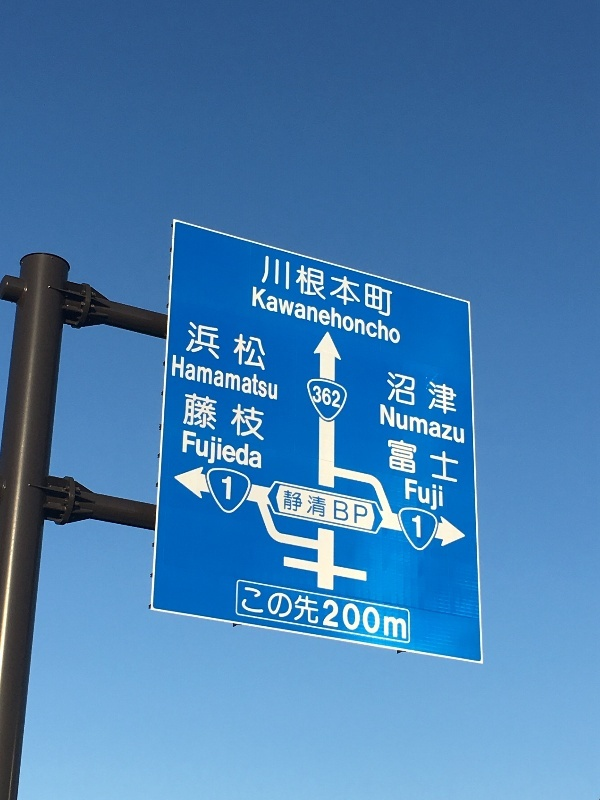text: (273, 255, 288, 319), (289, 255, 304, 319), (305, 255, 320, 319), (321, 255, 336, 319), (337, 255, 352, 319), (353, 255, 368, 319), (369, 255, 384, 319), (257, 286, 272, 345), (273, 286, 288, 345), (289, 286, 304, 345), (305, 286, 320, 345), (321, 286, 336, 345), (337, 286, 352, 345), (353, 286, 368, 345), (369, 286, 384, 345), (385, 286, 400, 345), (193, 321, 208, 372), (209, 321, 224, 372), (225, 321, 240, 372), (241, 321, 256, 372), (193, 391, 208, 442), (209, 391, 224, 442), (225, 391, 240, 442), (241, 391, 256, 442), (257, 587, 272, 637), (273, 587, 288, 637), (289, 587, 304, 637), (305, 587, 320, 637), (321, 587, 336, 637), (337, 587, 352, 637), (353, 587, 368, 637), (177, 354, 192, 400), (193, 354, 208, 400), (209, 354, 224, 400), (225, 354, 240, 400), (241, 354, 256, 400), (257, 354, 272, 400), (401, 371, 416, 417), (417, 371, 432, 417), (433, 371, 448, 417), (401, 437, 416, 483), (417, 437, 432, 483), (433, 437, 448, 483), (193, 429, 208, 474), (209, 429, 224, 474), (225, 429, 240, 474), (241, 429, 256, 474), (449, 404, 465, 444), (385, 404, 400, 444), (401, 404, 416, 444), (417, 404, 432, 444), (433, 404, 448, 444), (244, 587, 256, 637), (369, 587, 381, 637), (388, 371, 400, 417), (388, 437, 400, 483), (417, 478, 432, 513), (264, 255, 272, 319), (385, 255, 393, 319), (449, 437, 459, 483), (257, 321, 266, 372), (289, 489, 304, 518), (305, 489, 320, 518), (257, 391, 265, 442), (337, 499, 352, 525), (353, 499, 368, 525), (405, 478, 416, 513), (449, 371, 457, 417), (184, 429, 192, 474), (185, 391, 192, 442), (433, 478, 443, 513), (321, 385, 336, 408), (385, 617, 400, 639), (273, 354, 278, 400), (257, 429, 262, 474), (225, 475, 232, 501), (253, 286, 256, 345), (313, 385, 320, 408), (380, 404, 384, 444), (321, 489, 326, 518), (173, 354, 176, 400), (401, 617, 407, 639), (284, 489, 288, 518), (190, 321, 192, 372), (412, 514, 416, 538), (417, 514, 421, 538), (337, 385, 341, 408), (222, 475, 224, 501), (334, 499, 336, 525)
